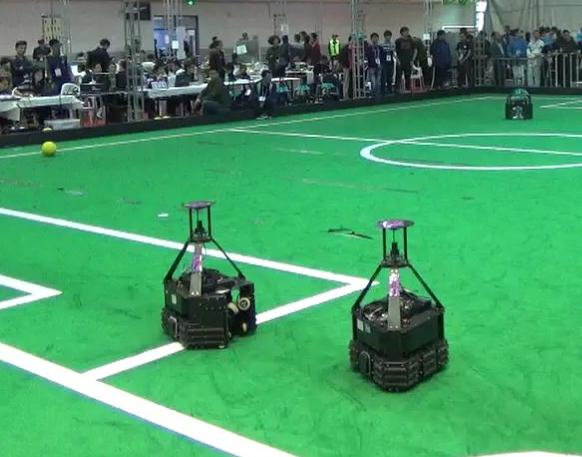robot: (347, 214, 455, 396), (147, 194, 259, 352)
